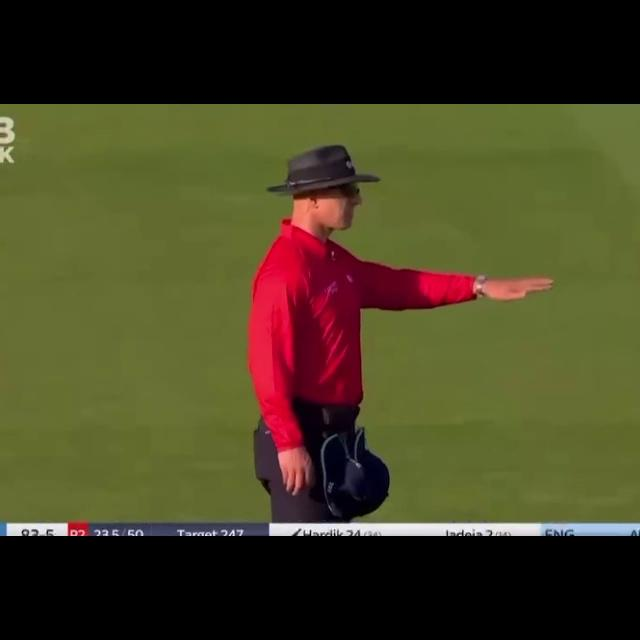umpire: (229, 125, 558, 526)
